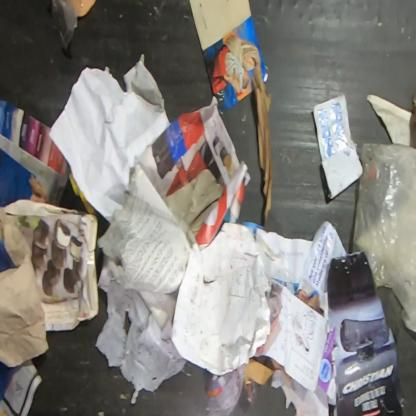cardboard: (0, 199, 100, 330), (0, 99, 71, 209)
rigid_plastic: (50, 1, 78, 44)
soft_plastic: (352, 143, 415, 333)
